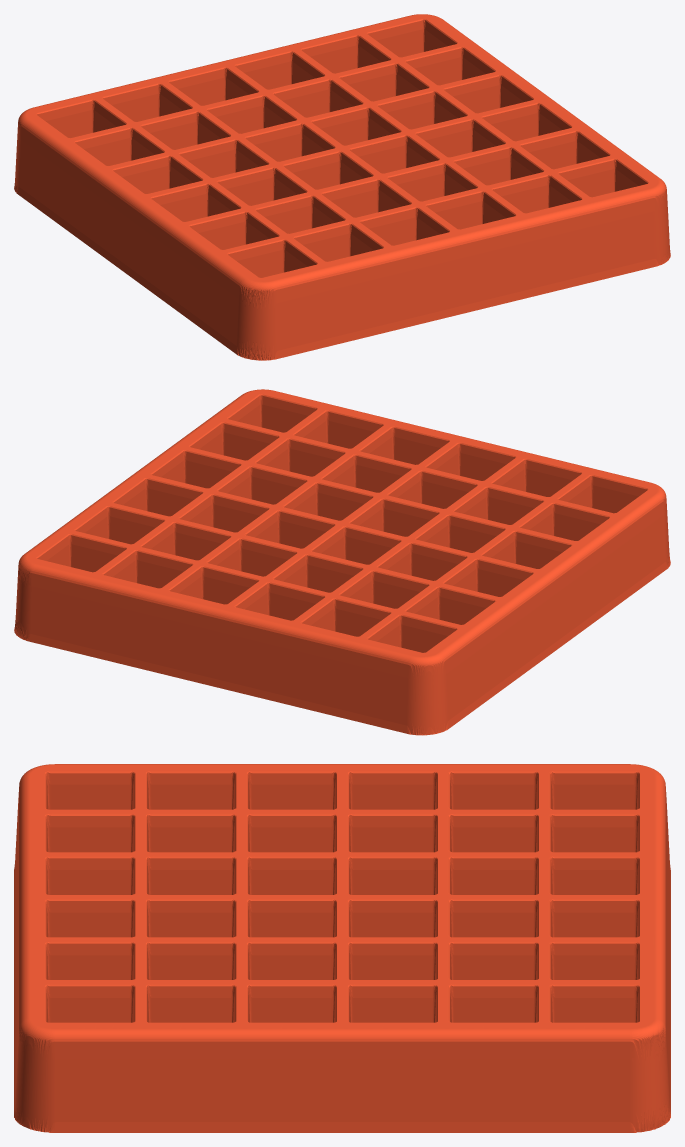
The model's file is mold.glb.
3 renders of one model, top to bottom at view 1: azimuth 30°, elevation 25°; view 2: azimuth 150°, elevation 25°; view 3: azimuth 270°, elevation 25°, orthographic. The views are drawn at different scales.
Parts seen in each view (by area): view 1: geometry_0; view 2: geometry_0; view 3: geometry_0.
Boxes of the visible parts, x1,y1,x2,y2 form: geometry_0: [14, 14, 670, 360]; geometry_0: [14, 389, 670, 735]; geometry_0: [14, 764, 670, 1132].
Size of the model in its own units: 0.1447 by 0.0236 by 0.1447.
